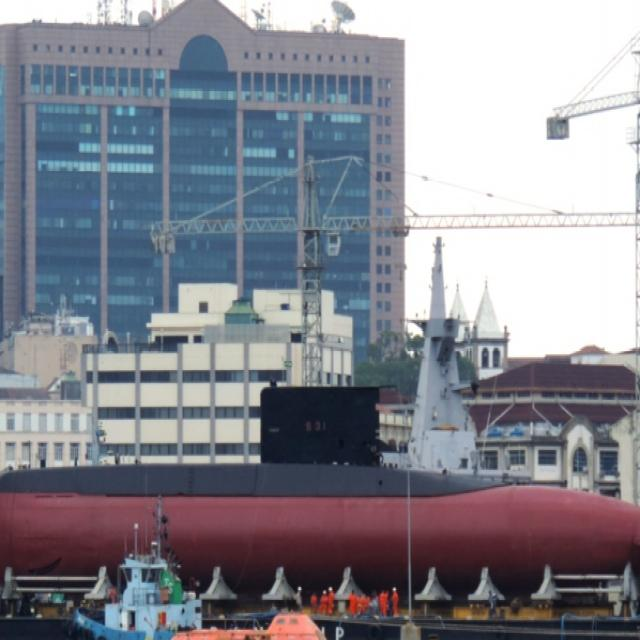submarine: (1, 371, 640, 588)
